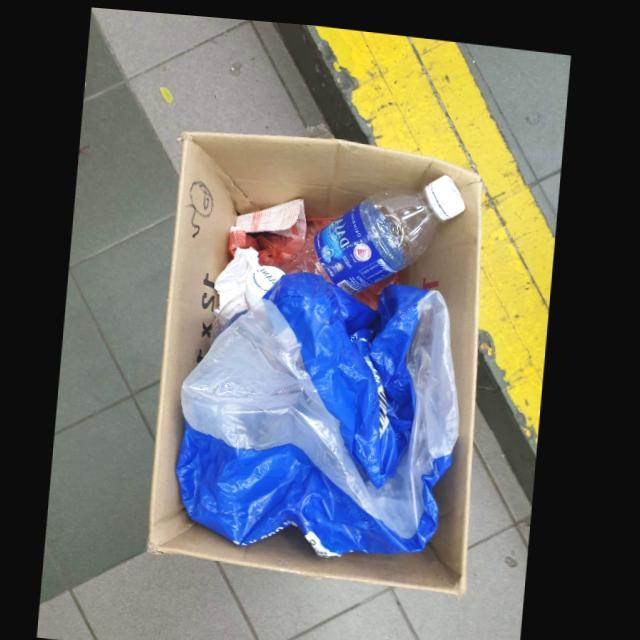paper: (232, 193, 309, 233)
plastic: (180, 266, 463, 553), (276, 167, 467, 289), (212, 260, 288, 343)
